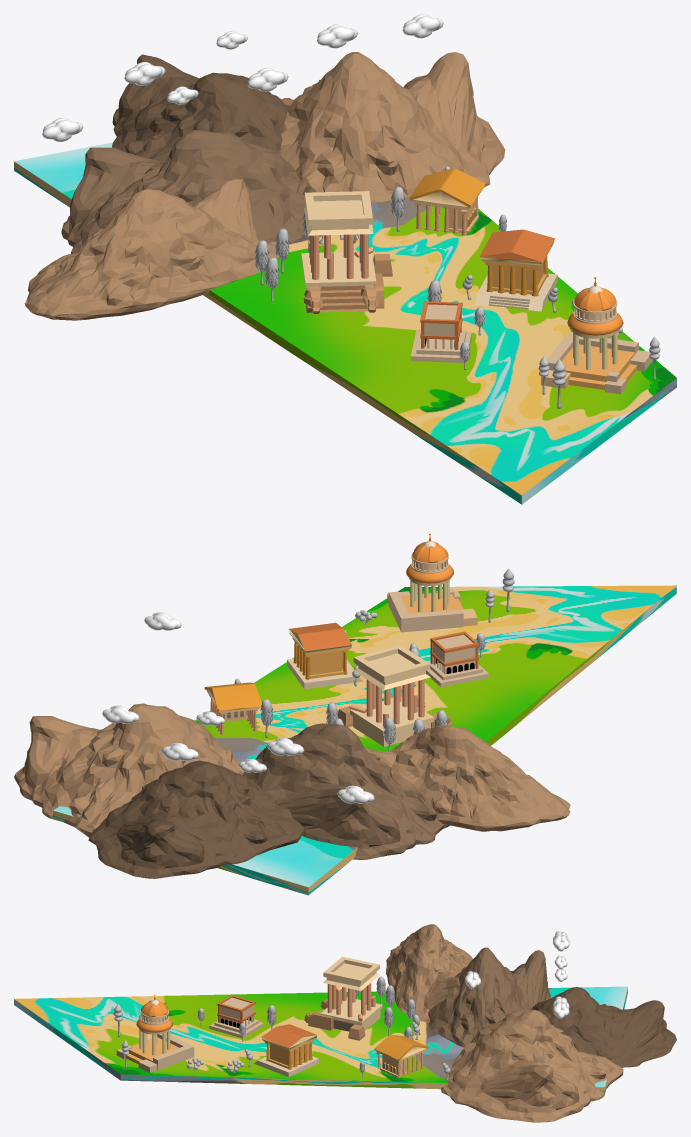
The model's file is Sredizimnoe more.fbx.
3 views of the same model, one above another, from view 1: azimuth 30°, elevation 25°; view 2: azimuth 150°, elevation 25°; view 3: azimuth 270°, elevation 25° (orthographic). The views are drawn at different scales.
Visible parts, largest first — view 1: Cube, Object_5.001, Object_5, Object_5.002, Object_5.003, building4.001, building3.008, building5.007, building1.002, building4, building3.001, building1.015 (+7 smaller); view 2: Cube, Object_5.003, Object_5.001, Object_5.002, Object_5, building4.001, building4, building1.004, building3.008, building5.007, building1.015, building3.001 (+6 smaller); view 3: Cube, Object_5.001, Object_5.003, Object_5.002, Object_5, building4.001, building4, building3.008, building5.007, building1.004, building1.002, building1.015 (+7 smaller).
Boxes of the visible parts, x1=… form: Cube: x1=14, y1=142, x2=676, y2=504; Object_5.001: x1=278, y1=52, x2=505, y2=202; Object_5: x1=24, y1=179, x2=277, y2=320; Object_5.002: x1=61, y1=129, x2=315, y2=253; Object_5.003: x1=112, y1=54, x2=290, y2=161; building4.001: x1=304, y1=191, x2=373, y2=235; building3.008: x1=480, y1=229, x2=555, y2=268; building5.007: x1=409, y1=168, x2=485, y2=209; building1.002: x1=561, y1=344, x2=636, y2=389; building4: x1=301, y1=252, x2=376, y2=289; building3.001: x1=475, y1=273, x2=557, y2=311; building1.015: x1=573, y1=288, x2=617, y2=324; Cube: x1=53, y1=585, x2=676, y2=895; Object_5.003: x1=88, y1=760, x2=304, y2=878; Object_5.001: x1=14, y1=703, x2=244, y2=837; Object_5.002: x1=243, y1=723, x2=449, y2=859; Object_5: x1=365, y1=725, x2=570, y2=831; building4.001: x1=353, y1=644, x2=430, y2=690; building4: x1=350, y1=696, x2=433, y2=746; building1.004: x1=388, y1=591, x2=463, y2=632; building3.008: x1=289, y1=622, x2=351, y2=655; building5.007: x1=204, y1=682, x2=261, y2=713; building1.015: x1=411, y1=541, x2=448, y2=573; building3.001: x1=287, y1=658, x2=363, y2=689; Cube: x1=14, y1=986, x2=627, y2=1093; Object_5.001: x1=441, y1=1009, x2=623, y2=1122; Object_5.003: x1=530, y1=987, x2=676, y2=1067; Object_5.002: x1=428, y1=947, x2=550, y2=1047; Object_5: x1=386, y1=924, x2=472, y2=1023; building4.001: x1=323, y1=956, x2=379, y2=990; building4: x1=320, y1=997, x2=382, y2=1031; building3.008: x1=261, y1=1024, x2=317, y2=1051; building5.007: x1=374, y1=1034, x2=428, y2=1061; building1.004: x1=153, y1=1033, x2=194, y2=1070; building1.002: x1=126, y1=1037, x2=179, y2=1064; building1.015: x1=140, y1=1000, x2=168, y2=1025.
Size of the model in its own units: 828 by 249 by 1325.
